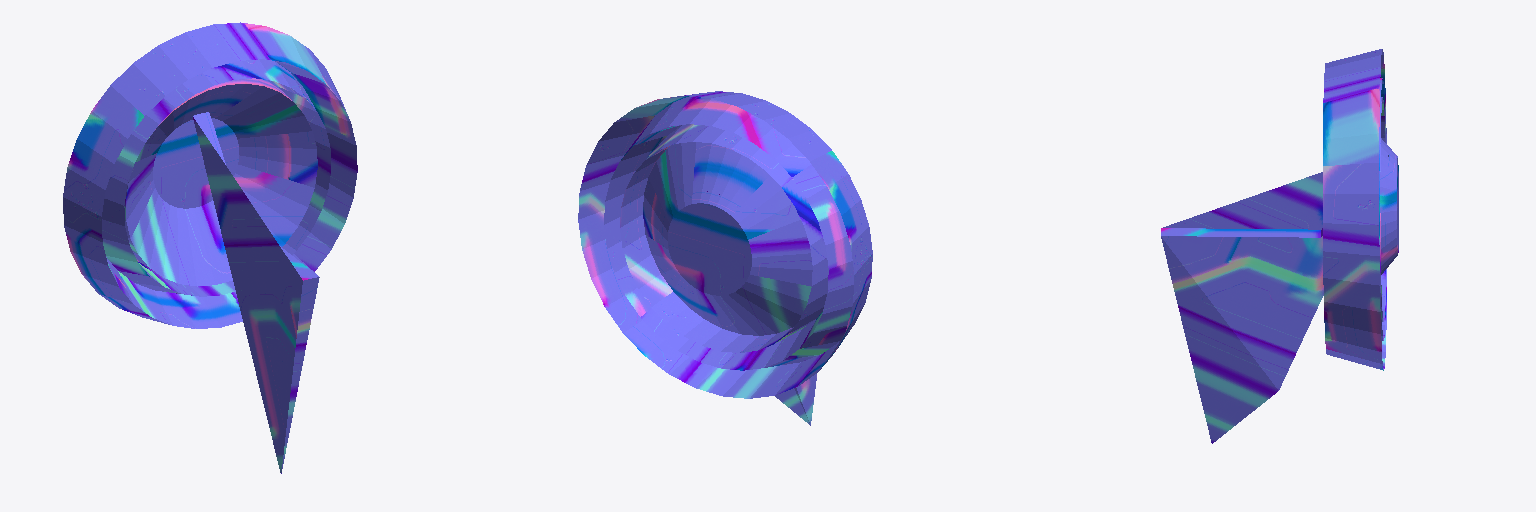
The picture shows the model from 3 angles: view 1: azimuth 30°, elevation 25°; view 2: azimuth 150°, elevation 25°; view 3: azimuth 270°, elevation 25°; orthographic projection.
Parts seen in each view (by area): view 1: radar; view 2: radar; view 3: radar.
Boxes of the visible parts, box(x1,y1,x2,y2) form: radar: box(63, 22, 357, 473); radar: box(578, 91, 872, 425); radar: box(1161, 49, 1398, 443).
Bounding box in the file's own units: 0.9877 × 1.3 × 0.7294.
Materials: 1 (1 with a texture image).